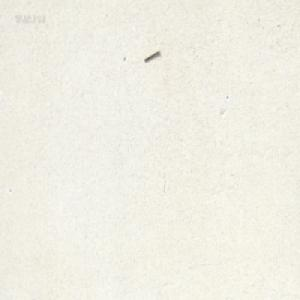Bolt: (143, 49, 159, 61)
